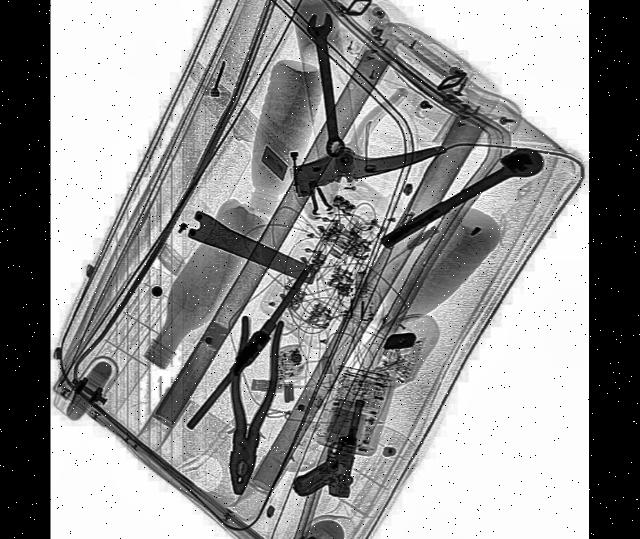Gun: (292, 376, 373, 512)
Pliers: (218, 311, 286, 496)
Wrench: (306, 5, 350, 156)
